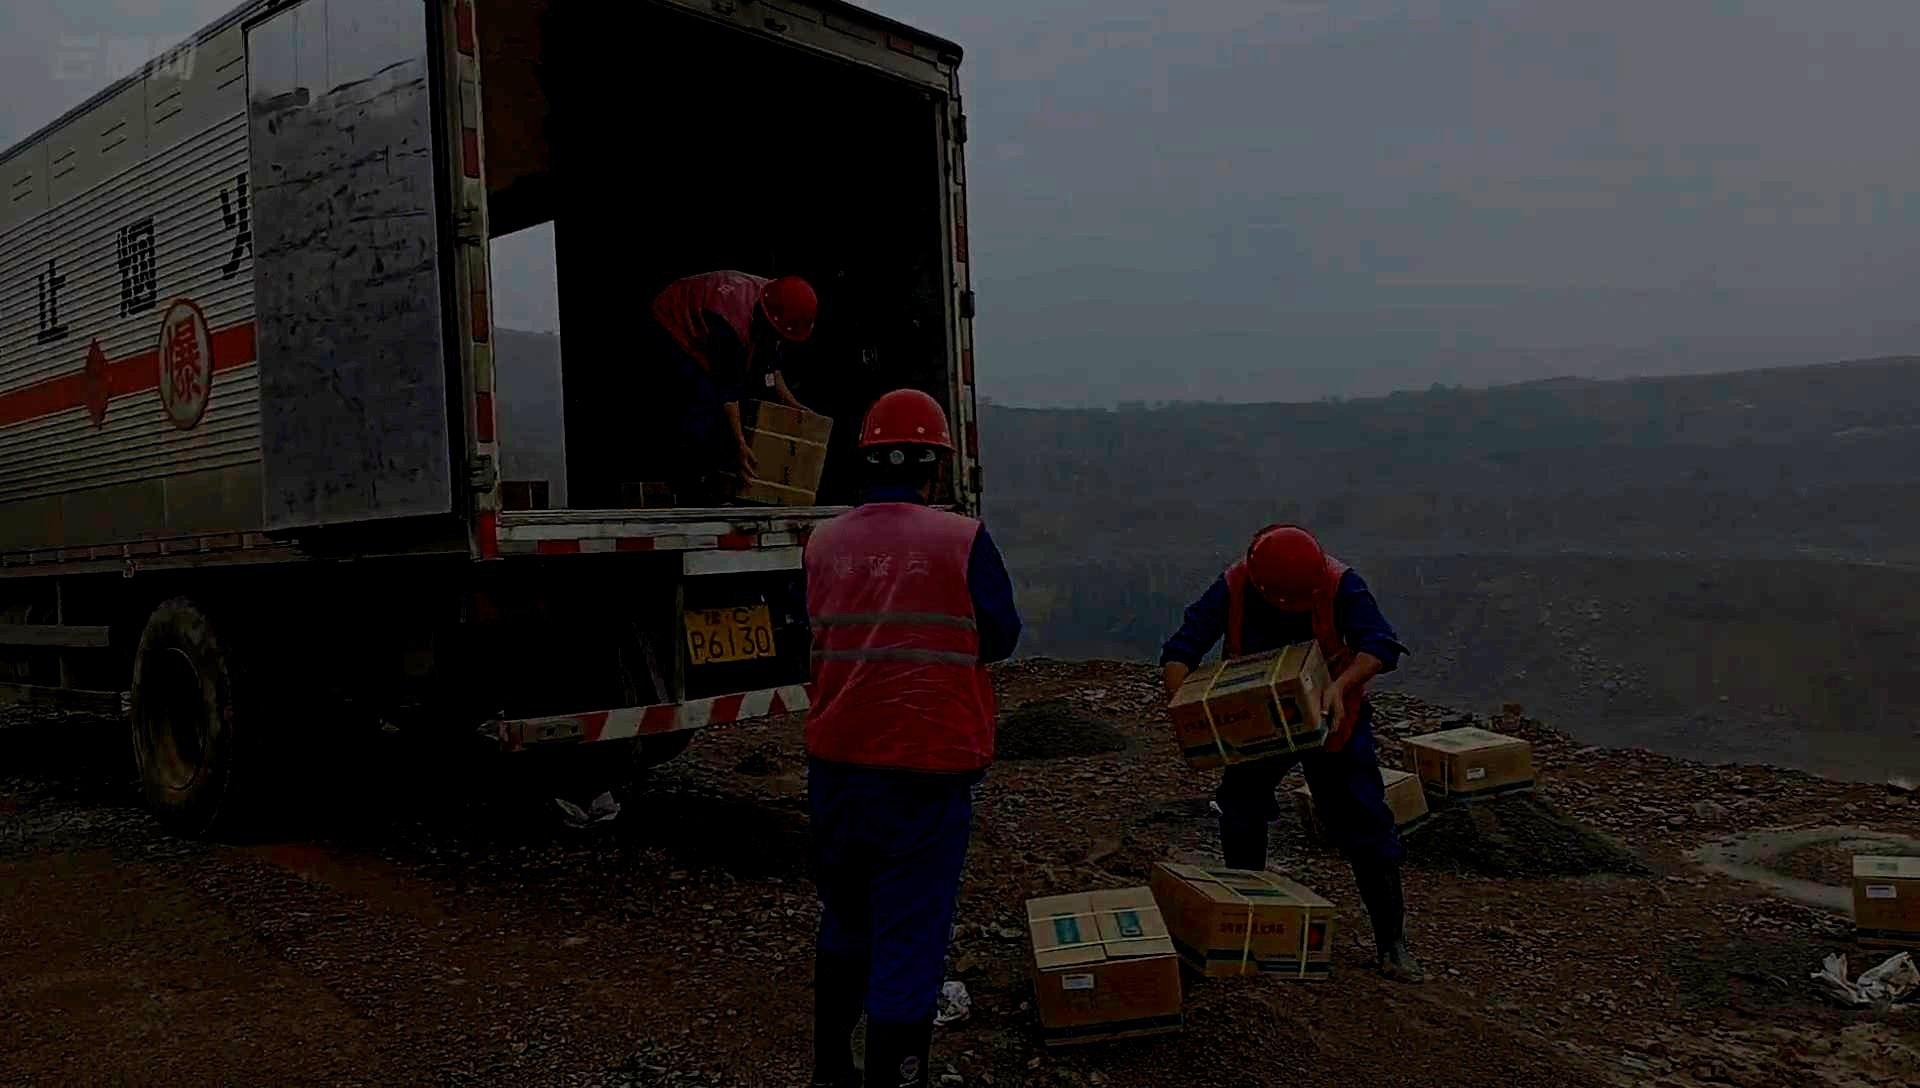helmet: (858, 388, 957, 502), (1245, 521, 1329, 611), (760, 274, 818, 342)
